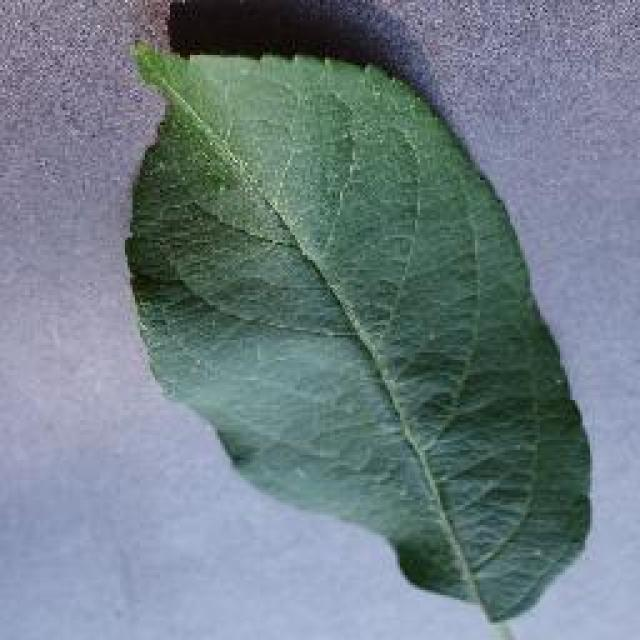apple healthy: (120, 15, 595, 625)
